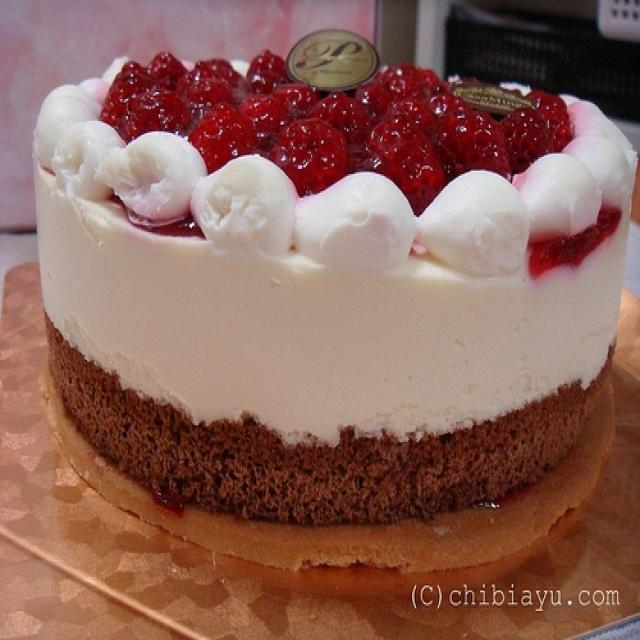Rare cheese cake: (19, 10, 640, 562)
